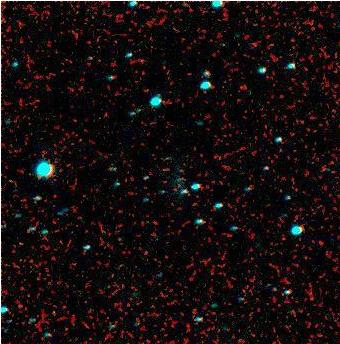star: (151, 154, 181, 184)
